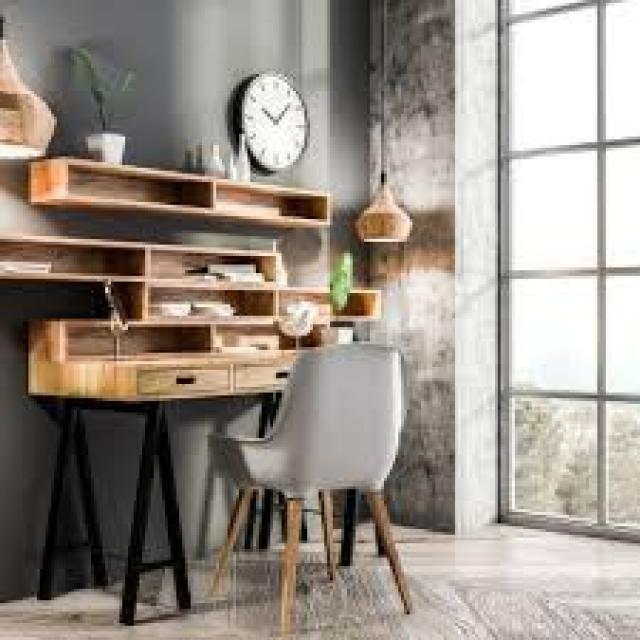obstacle: (184, 306, 477, 611)
